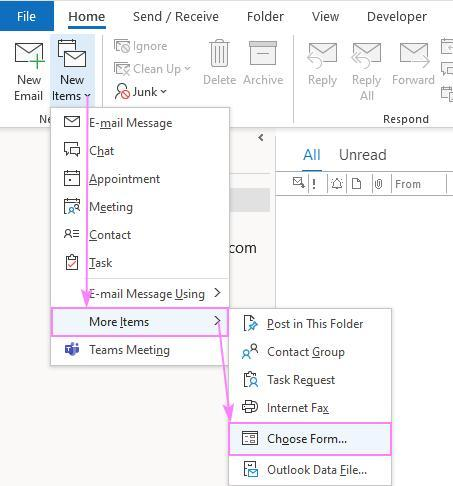button: (230, 424, 394, 457)
icon: (396, 42, 437, 74), (349, 40, 387, 73), (304, 40, 341, 71), (57, 39, 92, 70), (248, 39, 281, 71), (14, 41, 48, 69), (209, 37, 231, 71), (64, 250, 83, 277), (241, 371, 263, 394), (61, 169, 85, 190), (60, 196, 84, 217), (60, 140, 83, 159), (241, 459, 261, 480), (114, 83, 132, 105), (241, 344, 261, 363), (239, 399, 260, 417), (62, 113, 84, 130), (112, 39, 134, 56), (242, 314, 260, 334), (289, 176, 309, 194), (114, 59, 134, 76), (62, 229, 86, 242), (331, 176, 347, 193), (351, 178, 364, 194), (375, 177, 388, 192)
label: (266, 316, 365, 334), (268, 462, 370, 478), (86, 173, 167, 190), (89, 118, 179, 133), (267, 372, 339, 390), (268, 346, 347, 361), (266, 402, 333, 415), (88, 228, 134, 246), (89, 200, 134, 216), (84, 255, 115, 273), (87, 146, 119, 161)
